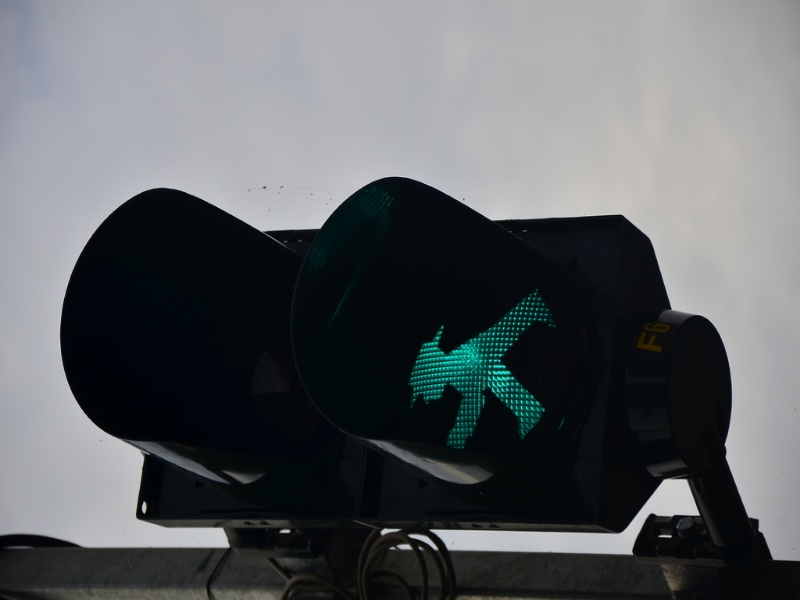green_light: (317, 235, 643, 484)
